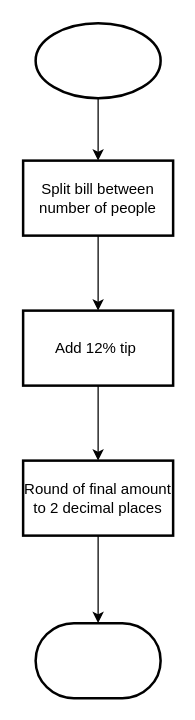
Some shapes in this 195 by 720 pixel diagram are drawn without their labels. Here are the shapes that lost their labels. From the top down, the centre of each, then its label:
point (97, 60): Start
point (97, 660): End
